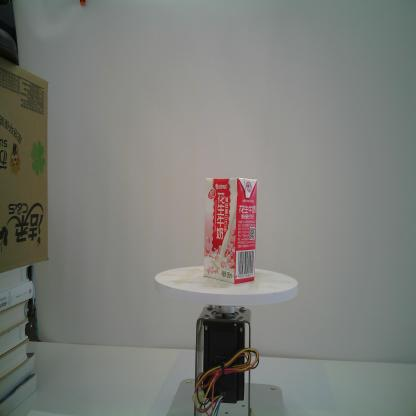Milk: (202, 175, 259, 286)
